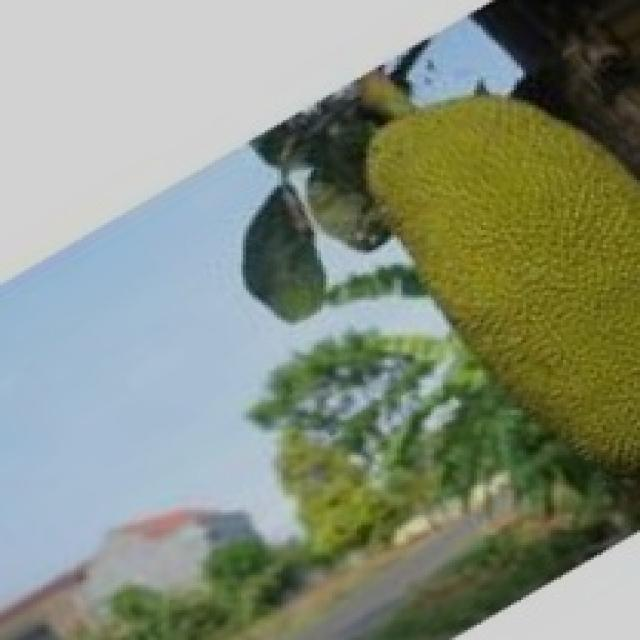Fruit: (323, 62, 640, 438)
